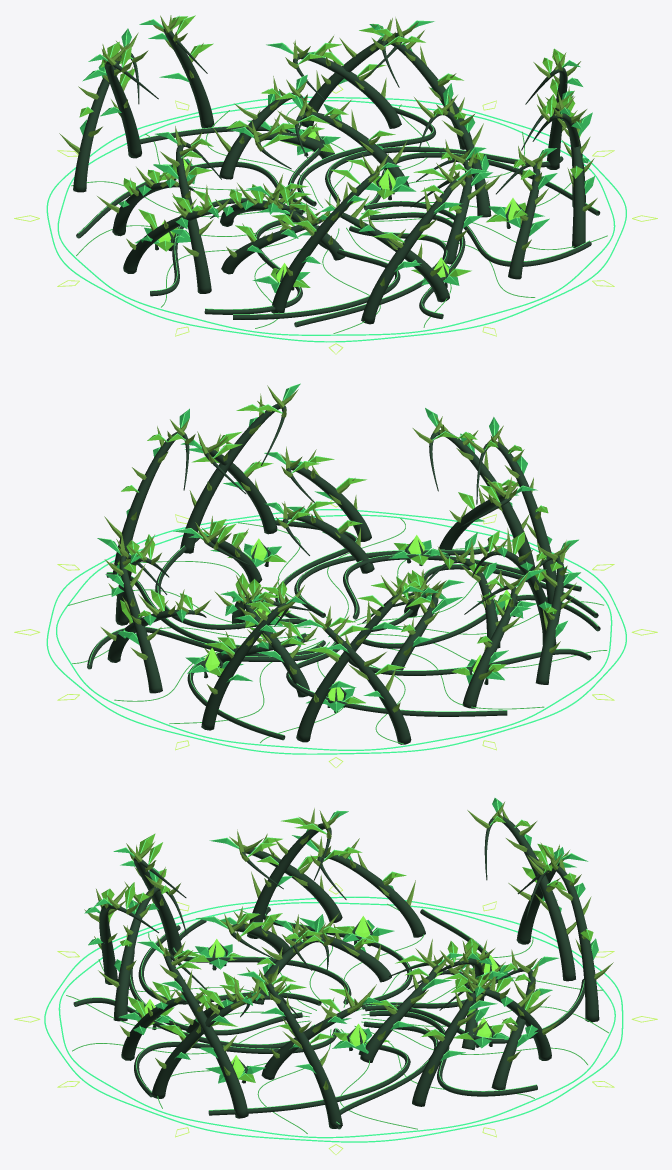
The model's file is sylra_bramble.glb.
The picture shows the model from 3 angles, top to bottom: view 1: azimuth 30°, elevation 25°; view 2: azimuth 150°, elevation 25°; view 3: azimuth 270°, elevation 25°; orthographic projection.
Visible parts, largest first — view 1: W_RootBed.001, W_BrambleGroup_1, W_BrambleGroup_3, W_BrambleGroup_0, W_BrambleGroup_2, W_BrambleGroup_4, W_OrganicBoundary.001, W_EnchantedSeeds, W_SapRoots.001, W_RootVeins.001, W_LeafSigils.001; view 2: W_BrambleGroup_0, W_BrambleGroup_3, W_RootBed.001, W_BrambleGroup_2, W_BrambleGroup_4, W_BrambleGroup_1, W_OrganicBoundary.001, W_EnchantedSeeds, W_SapRoots.001, W_RootVeins.001, W_LeafSigils.001; view 3: W_BrambleGroup_0, W_RootBed.001, W_BrambleGroup_1, W_BrambleGroup_4, W_BrambleGroup_2, W_BrambleGroup_3, W_OrganicBoundary.001, W_EnchantedSeeds, W_SapRoots.001, W_RootVeins.001, W_LeafSigils.001.
Boxes of the visible parts, x1,y1,x2,y2 form: W_RootBed.001: (76,107,600,327); W_BrambleGroup_1: (59,19,488,324); W_BrambleGroup_3: (123,17,557,279); W_BrambleGroup_0: (82,41,594,313); W_BrambleGroup_2: (97,36,492,302); W_BrambleGroup_4: (139,15,597,293); W_OrganicBoundary.001: (46,96,626,342); W_EnchantedSeeds: (135,126,544,292); W_SapRoots.001: (71,104,607,333); W_RootVeins.001: (78,106,598,322); W_LeafSigils.001: (14,84,657,354); W_BrambleGroup_0: (104,383,568,742); W_BrambleGroup_3: (97,446,580,697); W_RootBed.001: (87,520,600,740); W_BrambleGroup_2: (101,475,546,708); W_BrambleGroup_4: (180,431,574,730); W_BrambleGroup_1: (108,408,534,744); W_OrganicBoundary.001: (46,509,626,754); W_EnchantedSeeds: (185,535,536,712); W_SapRoots.001: (67,518,607,744); W_RootVeins.001: (89,519,598,735); W_LeafSigils.001: (14,500,657,767); W_BrambleGroup_0: (113,798,576,1128); W_RootBed.001: (73,907,584,1129); W_BrambleGroup_1: (84,842,588,1106); W_BrambleGroup_4: (152,808,613,1098); W_BrambleGroup_2: (98,835,558,1090); W_BrambleGroup_3: (120,829,560,1079); W_OrganicBoundary.001: (44,896,623,1142); W_EnchantedSeeds: (118,916,517,1083); W_SapRoots.001: (66,903,608,1133); W_RootVeins.001: (75,906,584,1124); W_LeafSigils.001: (14,883,657,1154).
Size of what is drawn, in the model's own units: 1.69 by 0.4399 by 1.69.
